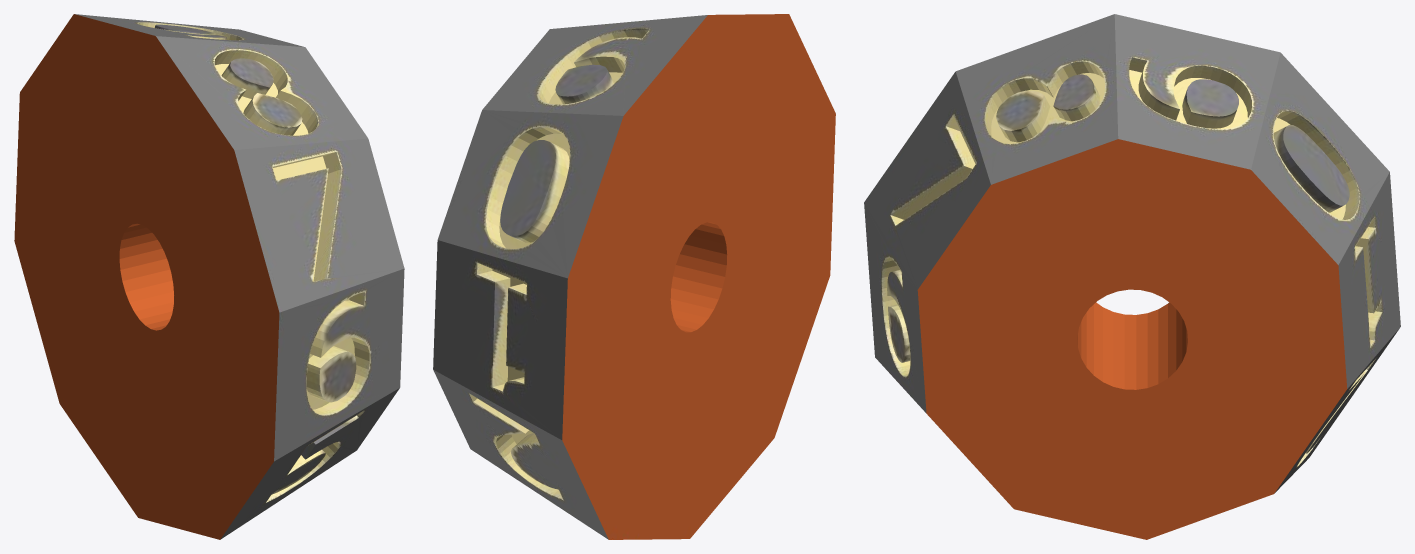
The model's file is CounterRight.fbx.
The picture shows the model from 3 angles, left to right: view 1: azimuth 30°, elevation 25°; view 2: azimuth 150°, elevation 25°; view 3: azimuth 270°, elevation 25°; orthographic projection. The views are drawn at different scales.
Visible parts, largest first — view 1: Counter Right; view 2: Counter Right; view 3: Counter Right.
Part boxes in pixels (x1=…): Counter Right: x1=14, y1=14, x2=404, y2=539; Counter Right: x1=433, y1=14, x2=835, y2=539; Counter Right: x1=864, y1=14, x2=1400, y2=539.
Size of the model in its own units: 960 by 2907 by 2994.
